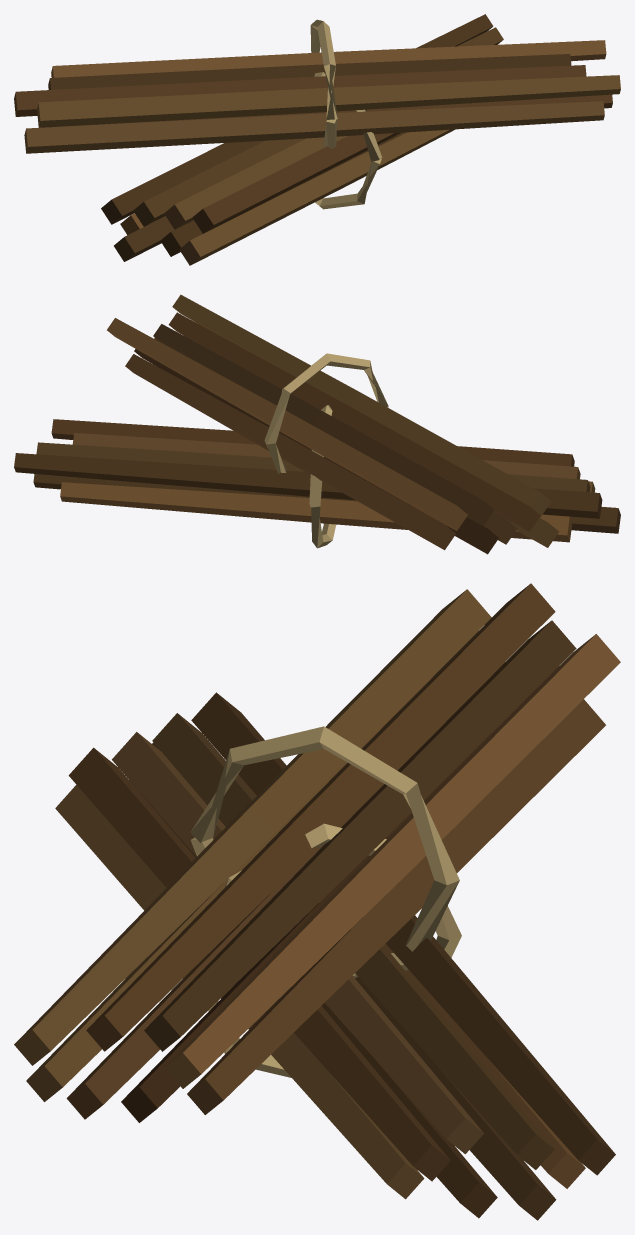
Rendered from storage_stick.glb.
3 views of the same model, one above another, from view 1: azimuth 30°, elevation 25°; view 2: azimuth 150°, elevation 25°; view 3: azimuth 270°, elevation 25° (orthographic). The views are drawn at different scales.
Visible parts, largest first — view 1: storage_stick; view 2: storage_stick; view 3: storage_stick.
Part boxes in pixels (x1=…): storage_stick: x1=14, y1=14, x2=620, y2=265; storage_stick: x1=14, y1=294, x2=620, y2=554; storage_stick: x1=14, y1=583, x2=620, y2=1220.
Bounding box in the file's own units: 1.69 × 0.5946 × 0.9103.
